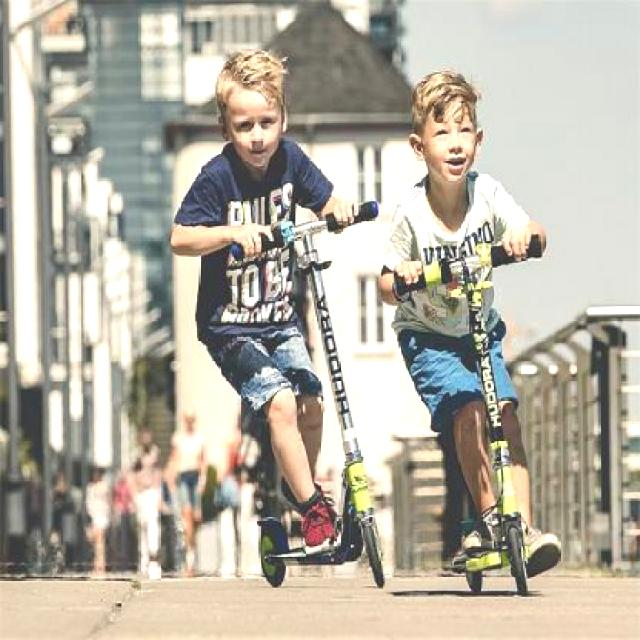Without Helmet: (211, 50, 287, 168), (409, 72, 480, 185)
